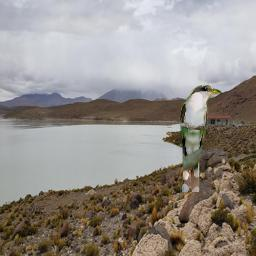Cuckoo: (179, 84, 222, 192)
